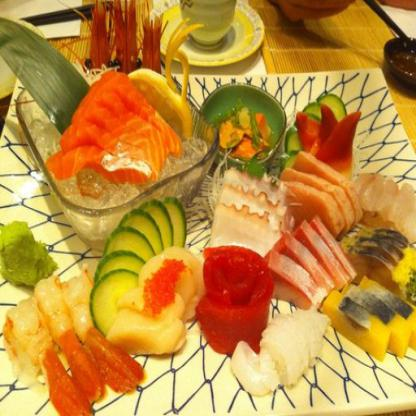salmon: (50, 73, 180, 183)
tuna: (198, 247, 273, 354)
